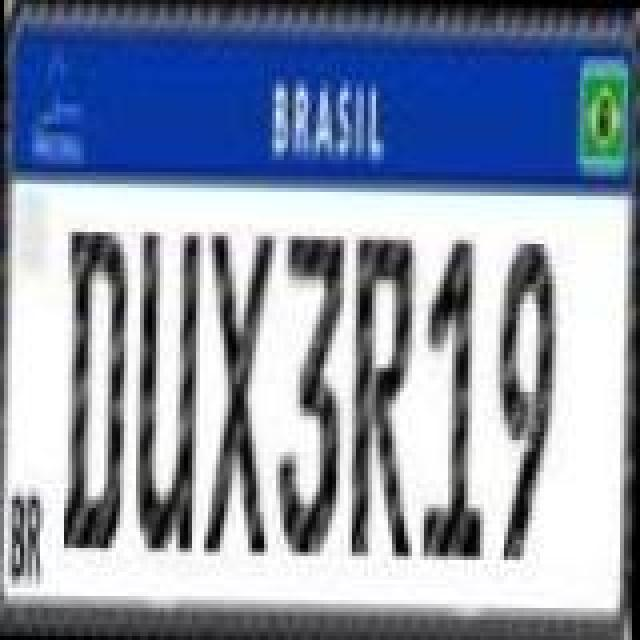1: (420, 228, 492, 564)
3: (274, 232, 342, 556)
9: (490, 232, 558, 568)
D: (62, 230, 130, 546)
R: (350, 234, 418, 558)
U: (134, 228, 202, 552)
X: (204, 230, 276, 554)
